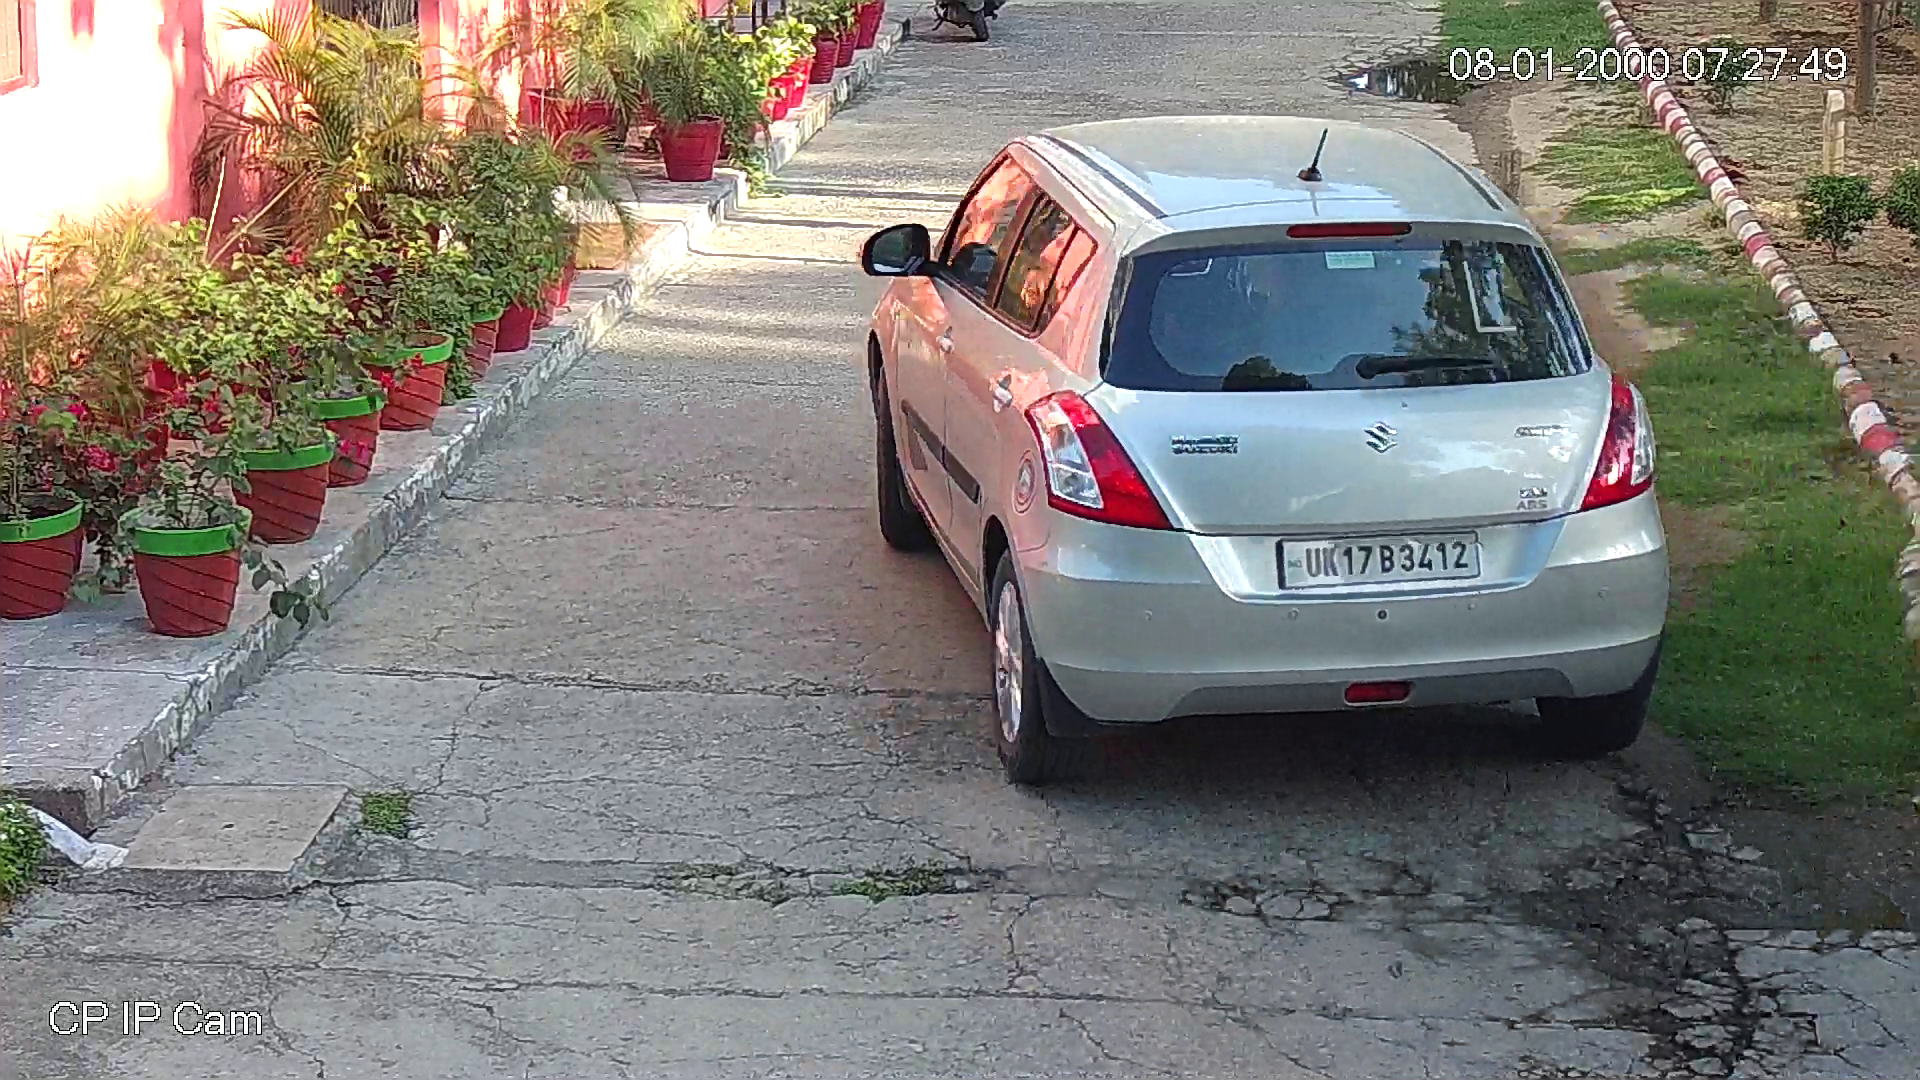plate: (1270, 521, 1491, 591)
